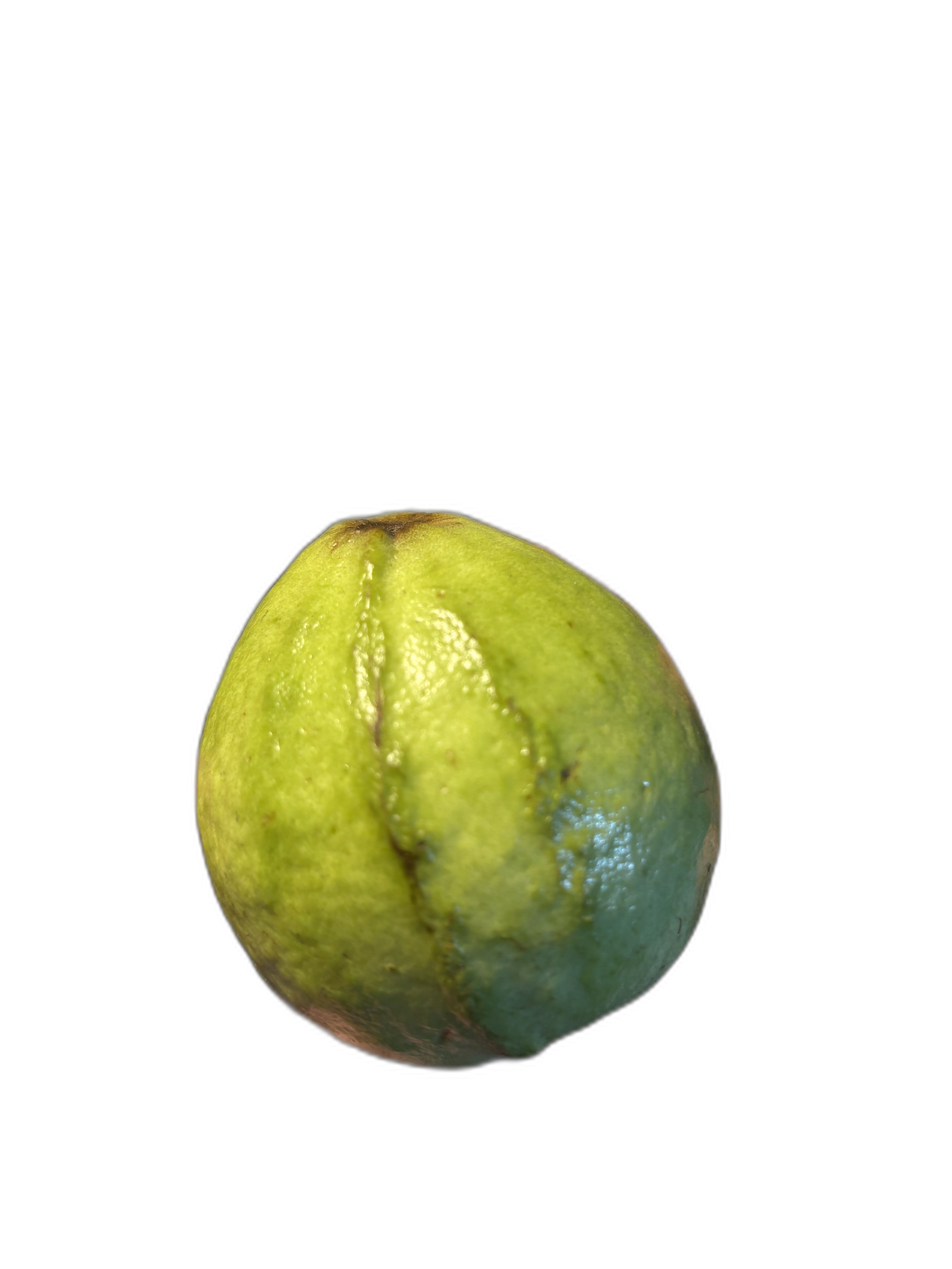guava: (36, 253, 851, 1241)
